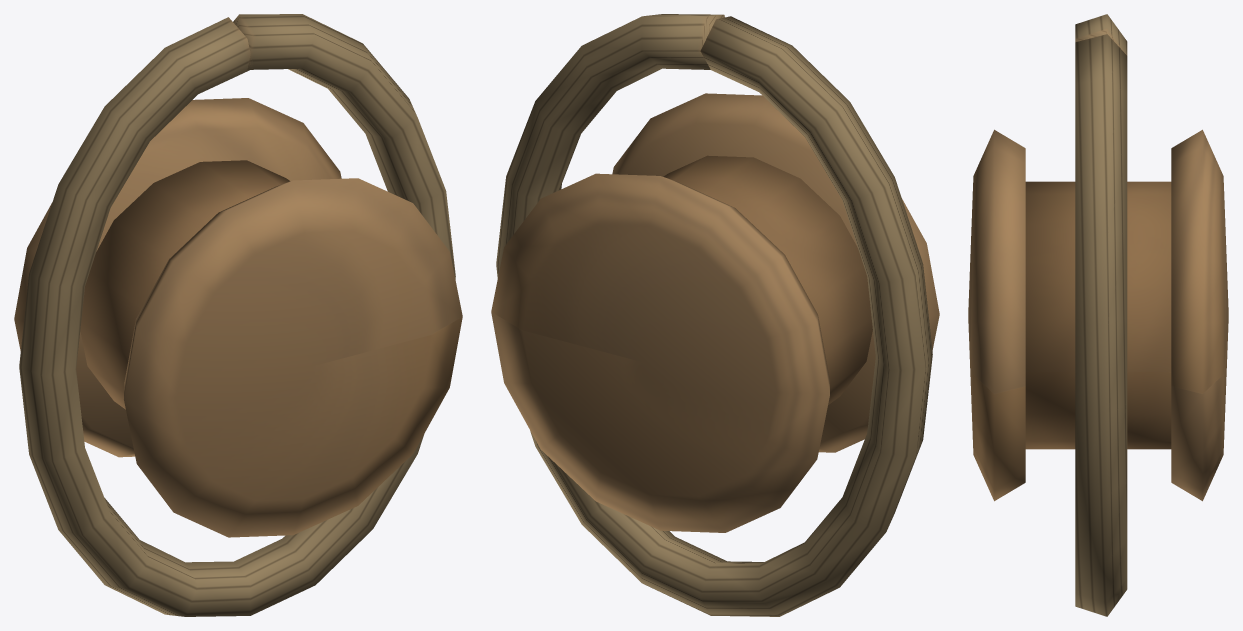
File: block_sheave.glb
3 renders of one model, left to right at view 1: azimuth 30°, elevation 25°; view 2: azimuth 150°, elevation 25°; view 3: azimuth 270°, elevation 25°, orthographic. The views are drawn at different scales.
Parts seen in each view (by area): view 1: block_sheave_LOD0; view 2: block_sheave_LOD0; view 3: block_sheave_LOD0.
Boxes of the visible parts, left/top/right/bottom form: block_sheave_LOD0: left=14, top=14, right=462, bottom=616; block_sheave_LOD0: left=491, top=14, right=939, bottom=616; block_sheave_LOD0: left=968, top=14, right=1228, bottom=616.
Size of what is drawn, in the model's own units: 0.1809 by 0.2406 by 0.1.
Materials: 1 (1 with a texture image).
